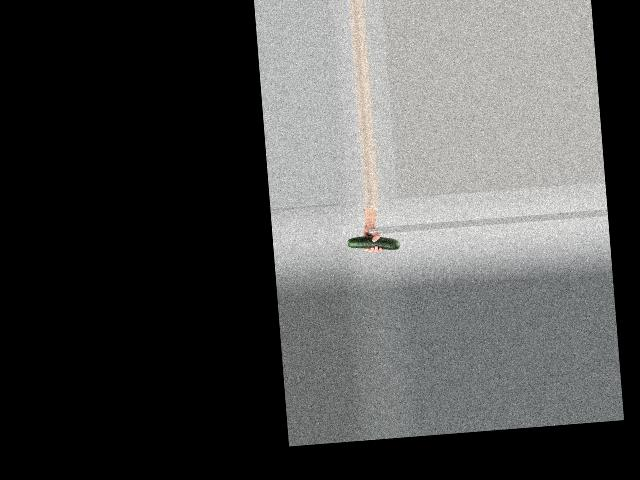cucumber: (348, 233, 400, 253)
